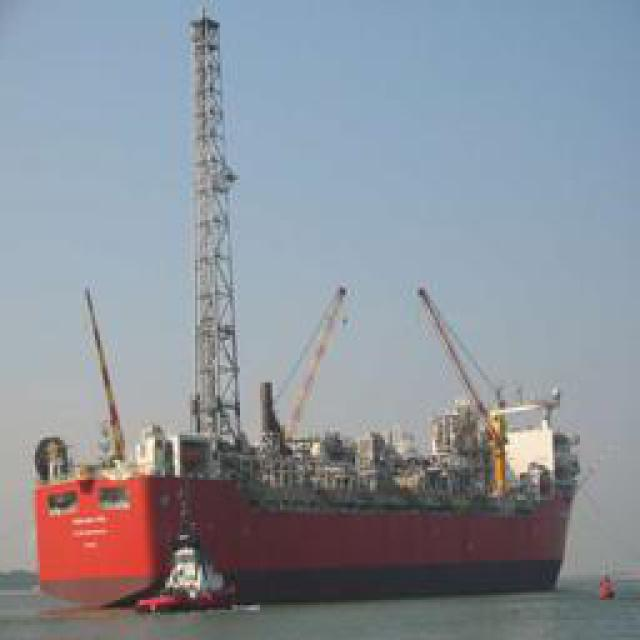Ship: (29, 270, 584, 610), (139, 522, 262, 623)
